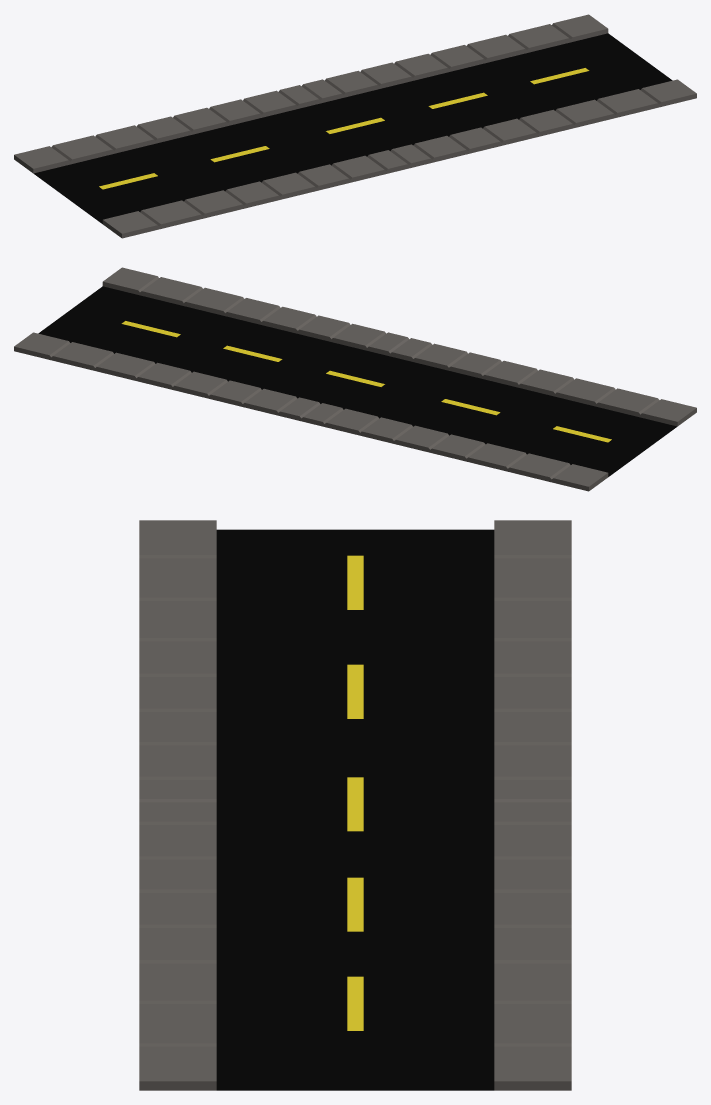
The model's file is Street.fbx.
3 renders of one model, top to bottom at view 1: azimuth 30°, elevation 25°; view 2: azimuth 150°, elevation 25°; view 3: azimuth 270°, elevation 25°, orthographic. The views are drawn at different scales.
Parts seen in each view (by area): view 1: Street; view 2: Street; view 3: Street.
Part boxes in pixels (<box>): Street: <box>14,14,696,238</box>; Street: <box>14,267,696,491</box>; Street: <box>139,520,571,1090</box>.
Bounding box in the file's own units: 2070 × 16.13 × 674.
